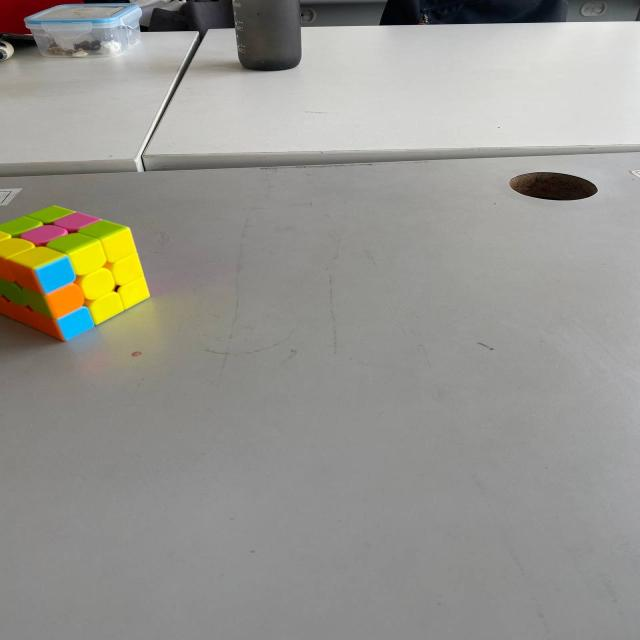Cube-3x3: (11, 185, 190, 393)
